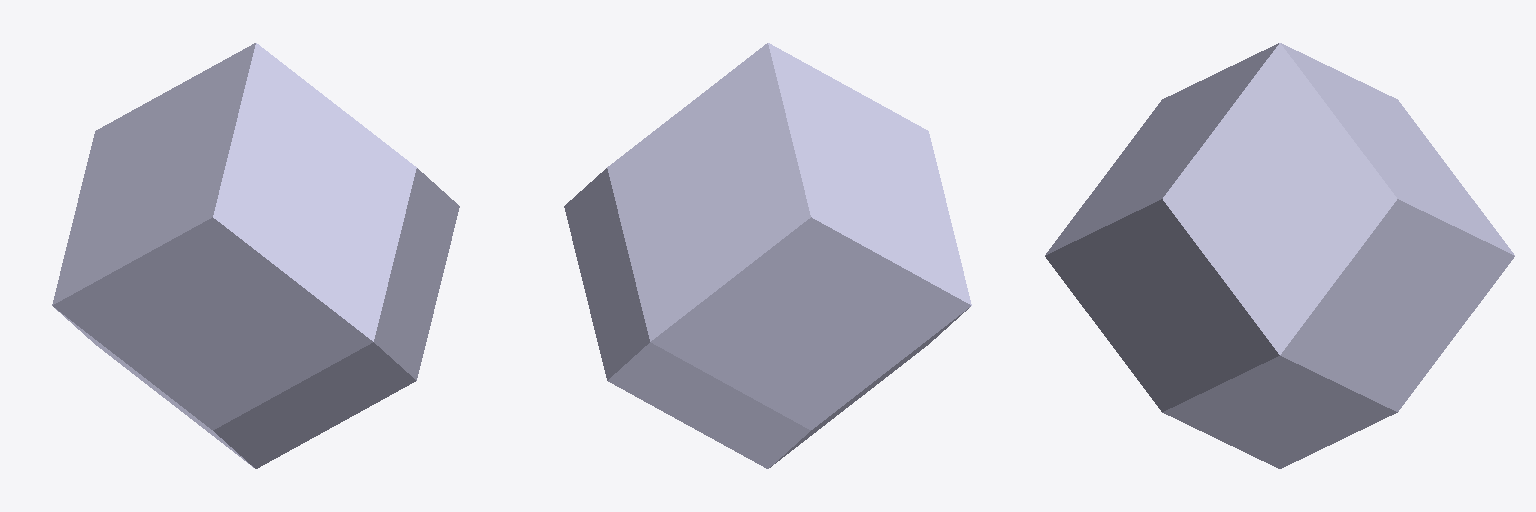
The model's file is diamond.obj.
The picture shows the model from 3 angles: view 1: azimuth 30°, elevation 25°; view 2: azimuth 150°, elevation 25°; view 3: azimuth 270°, elevation 25°; orthographic projection.
Bounding box in the file's own units: 0.5657 × 0.5657 × 0.5657.